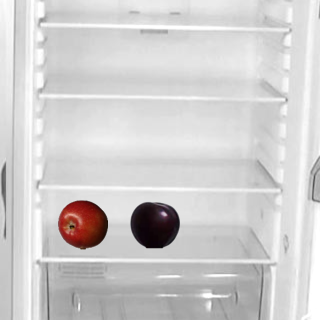Apple Braeburn: (57, 199, 107, 249)
Cherry Wax Black: (129, 199, 179, 249)
